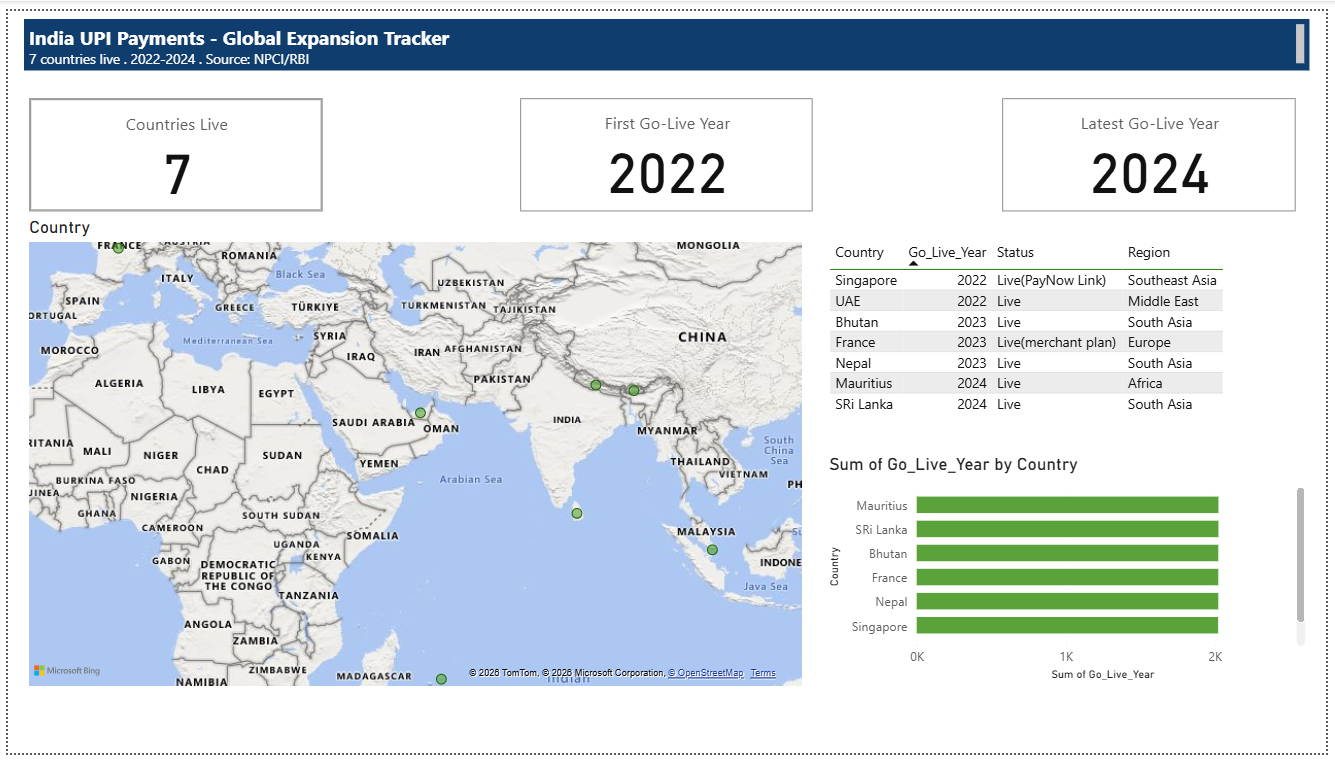

This screenshot's page, from the dashboard's own definition file:
{"tool":"powerbi","page":{"name":"Global Expansion ","canvas":[1280,720],"ordinal":3},"visuals":[{"type":"textbox","box":[16,8,1248,50],"z":0},{"type":"cardVisual","fields":{"Data":["global_expansion.Countries Live"]},"box":[15.5,79.6,295.1,120.4],"z":1},{"type":"cardVisual","fields":{"Data":["global_expansion.First Go-Live Year"]},"box":[492.2,79.6,294.2,120.4],"z":2},{"type":"cardVisual","fields":{"Data":["global_expansion.Latest Go-Live Year"]},"box":[960.2,79.6,295.1,120.4],"z":3},{"type":"map","fields":{"Category":["global_expansion.Country"]},"box":[16,200,760,460],"z":4},{"type":"tableEx","fields":{"Values":["global_expansion.Country","global_expansion.Go_Live_Year","global_expansion.Status","global_expansion.Region"]},"box":[792.2,218.4,471.8,179.6],"z":5},{"type":"clusteredBarChart","fields":{"Category":["global_expansion.Country"],"Y":["Sum(global_expansion.Go_Live_Year)"]},"box":[792.2,430.1,471.8,224.3],"z":6}]}

Visuals, with their boxes in screenshot pixels (x1, y1, x2, y2), scaled from the page's 1280x720 canvas onto the 1335x760 screenshot:
textbox: Rect(17, 8, 1318, 61)
cardVisual - global_expansion.Countries Live: Rect(16, 84, 324, 211)
cardVisual - global_expansion.First Go-Live Year: Rect(513, 84, 820, 211)
cardVisual - global_expansion.Latest Go-Live Year: Rect(1001, 84, 1309, 211)
map - global_expansion.Country: Rect(17, 211, 809, 697)
tableEx - global_expansion.Country x global_expansion.Go_Live_Year: Rect(826, 231, 1318, 420)
clusteredBarChart - global_expansion.Country x Sum(global_expansion.Go_Live_Year): Rect(826, 454, 1318, 691)
